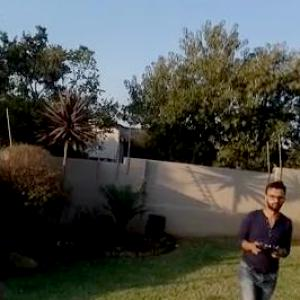follow: (237, 176, 300, 299)
